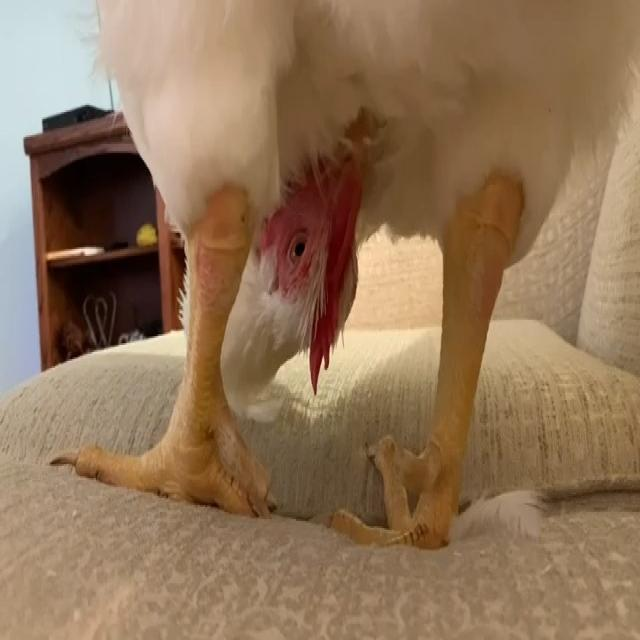self preening: (46, 0, 640, 556)
